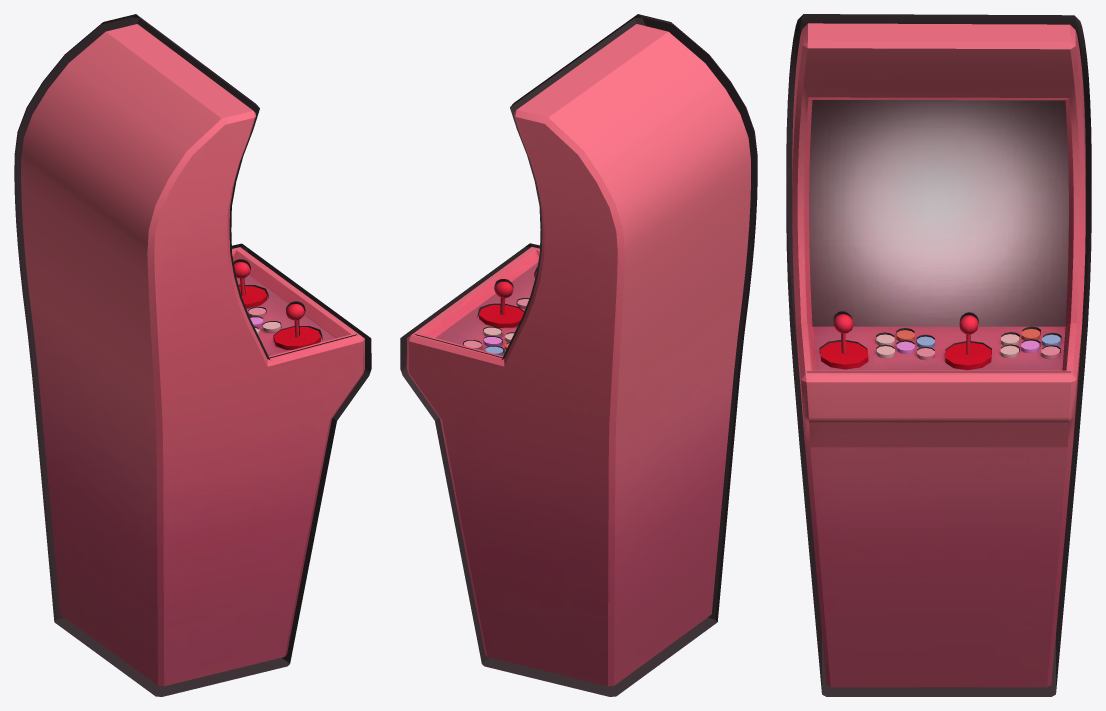
The model's file is arcade.glb.
3 views of the same model, side by side, from view 1: azimuth 30°, elevation 25°; view 2: azimuth 150°, elevation 25°; view 3: azimuth 270°, elevation 25° (orthographic). The views are drawn at different scales.
Visible parts, largest first — view 1: Arcade_Arcade_TEX_0, Arcade_Outline_TEX_0; view 2: Arcade_Arcade_TEX_0, Arcade_Outline_TEX_0; view 3: Arcade_Arcade_TEX_0, Arcade_Outline_TEX_0.
Part boxes in pixels (x1,y1,x2,y2): Arcade_Arcade_TEX_0: (21,24,364,686); Arcade_Outline_TEX_0: (14,14,371,696); Arcade_Arcade_TEX_0: (406,24,750,686); Arcade_Outline_TEX_0: (400,14,757,696); Arcade_Arcade_TEX_0: (792,23,1085,687); Arcade_Outline_TEX_0: (786,14,1091,696).
Size of the model in its own units: 97.87 by 235 by 101.
2 materials, 1 textured.
